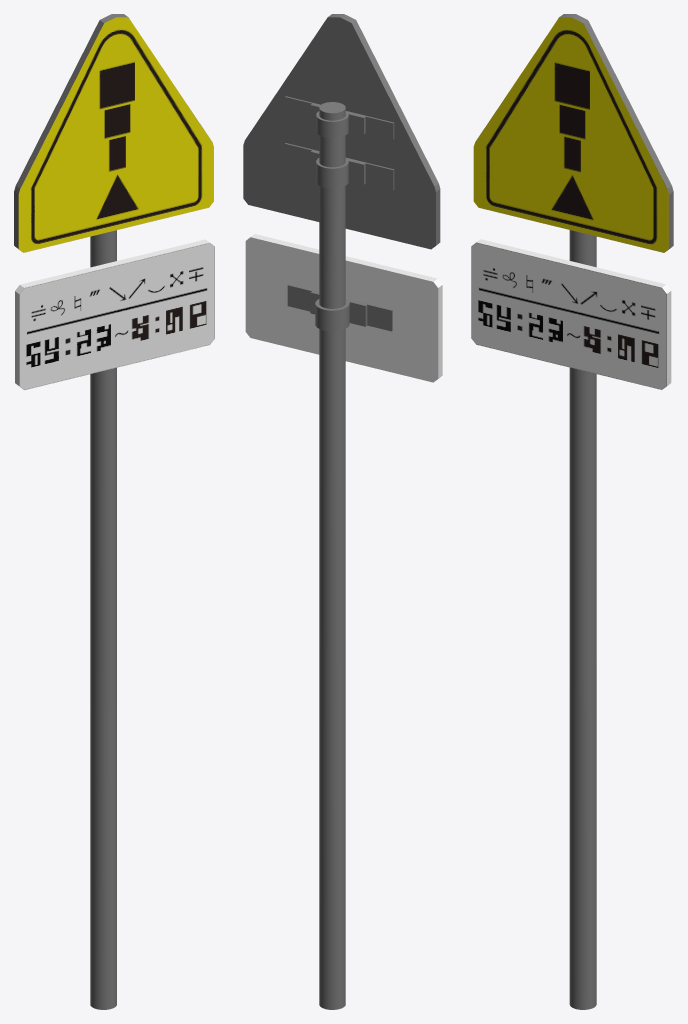
The model's file is road_sign2.fbx.
3 renders of one model, left to right at view 1: azimuth 30°, elevation 25°; view 2: azimuth 150°, elevation 25°; view 3: azimuth 330°, elevation 25°, orthographic.
Parts seen in each view (by area): view 1: hodou, hojohyousiki1, hasira1; view 2: hasira1, hodou, hojohyousiki1; view 3: hodou, hojohyousiki1, hasira1.
Boxes of the visible parts, x1=… form: hodou: x1=14, y1=14, x2=213, y2=252; hojohyousiki1: x1=15, y1=239, x2=214, y2=389; hasira1: x1=90, y1=230, x2=116, y2=1009; hasira1: x1=284, y1=96, x2=394, y2=1009; hodou: x1=243, y1=14, x2=440, y2=249; hojohyousiki1: x1=245, y1=234, x2=442, y2=382; hodou: x1=473, y1=14, x2=673, y2=252; hojohyousiki1: x1=471, y1=239, x2=671, y2=389; hasira1: x1=569, y1=230, x2=596, y2=1009.
Size of the model in its own units: 100 by 487 by 19.99.
Materials: 4 (2 with a texture image).
